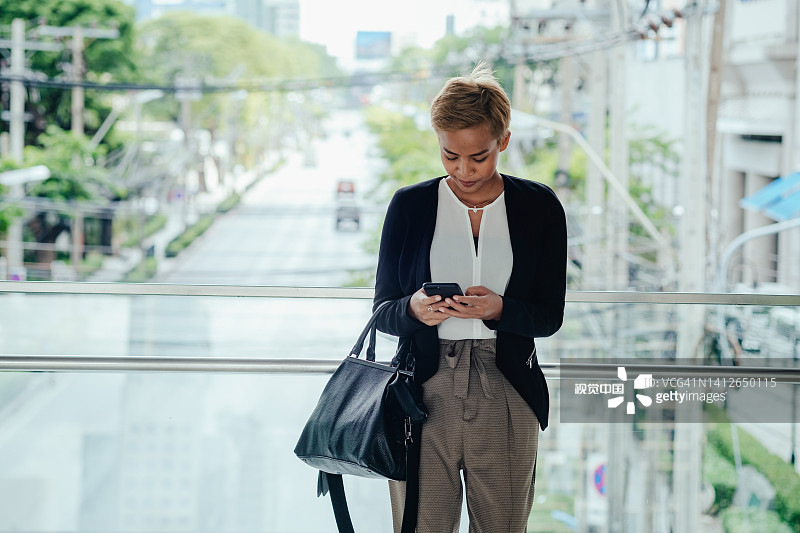reading: (385, 276, 508, 335)
